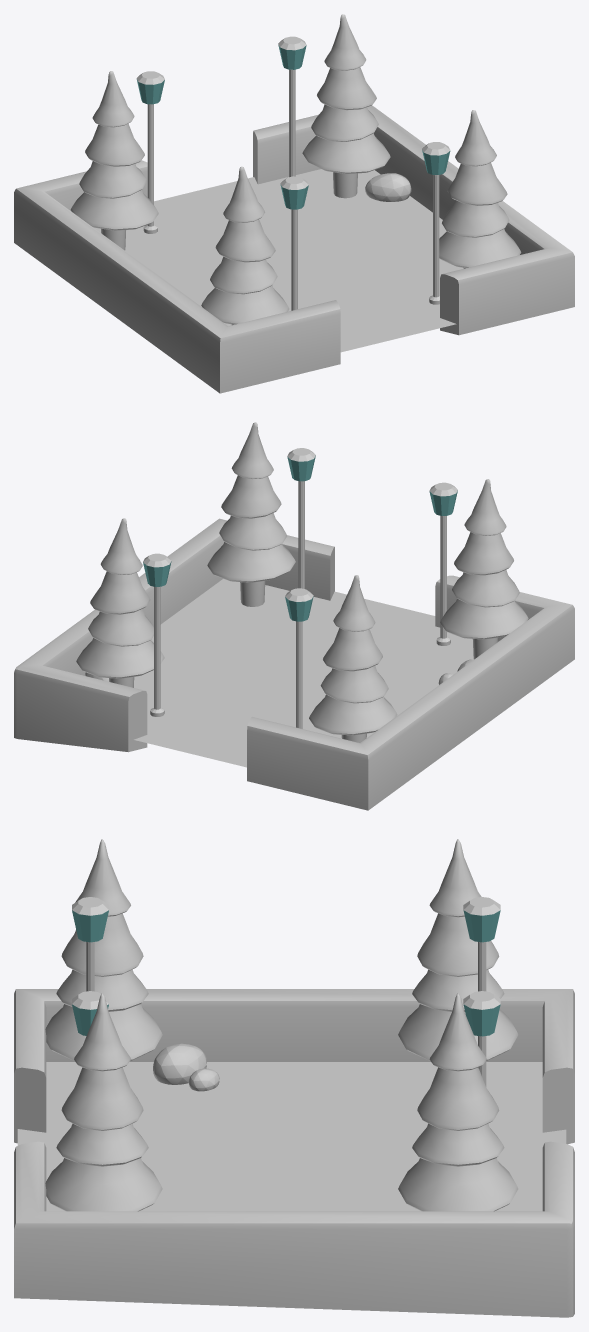
The model's file is Jardin.fbx.
3 renders of one model, top to bottom at view 1: azimuth 30°, elevation 25°; view 2: azimuth 150°, elevation 25°; view 3: azimuth 270°, elevation 25°, orthographic. The views are drawn at different scales.
Parts seen in each view (by area): view 1: miniparque, Arbol_002, Arbol_003, Arbol_005, Arbol_004, farola_005, farola_2, farola_003, farola_004, arbusto_final; view 2: miniparque, Arbol_004, Arbol_005, Arbol_003, Arbol_002, farola_003, farola_004, farola_005, farola_2; view 3: miniparque, Arbol_002, Arbol_004, Arbol_005, Arbol_003, farola_2, farola_004, arbusto_final002, farola_003, farola_005.
Part boxes in pixels (x1,y1,x2,y2): miniparque: [14, 105, 574, 393]; Arbol_002: [302, 14, 390, 198]; Arbol_003: [70, 71, 158, 250]; Arbol_005: [201, 166, 289, 325]; Arbol_004: [439, 110, 521, 268]; farola_005: [422, 142, 450, 304]; farola_2: [136, 71, 164, 233]; farola_003: [278, 36, 306, 177]; farola_004: [280, 176, 308, 310]; arbusto_final: [365, 173, 411, 201]; miniparque: [14, 518, 574, 810]; Arbol_004: [207, 422, 295, 606]; Arbol_005: [440, 479, 528, 659]; Arbol_003: [309, 575, 397, 742]; Arbol_002: [76, 518, 164, 687]; farola_003: [143, 553, 171, 716]; farola_004: [429, 482, 457, 645]; farola_005: [287, 448, 315, 588]; farola_2: [285, 588, 313, 728]; miniparque: [14, 989, 574, 1317]; Arbol_002: [398, 993, 518, 1211]; Arbol_004: [45, 993, 162, 1211]; Arbol_005: [45, 839, 162, 1060]; Arbol_003: [398, 839, 518, 1060]; farola_2: [463, 897, 500, 991]; farola_004: [72, 897, 108, 991]; arbusto_final002: [153, 1043, 206, 1084]; farola_003: [463, 991, 500, 1086]; farola_005: [72, 991, 108, 1035].
Size of the model in its own units: 102 by 56.01 by 102.
